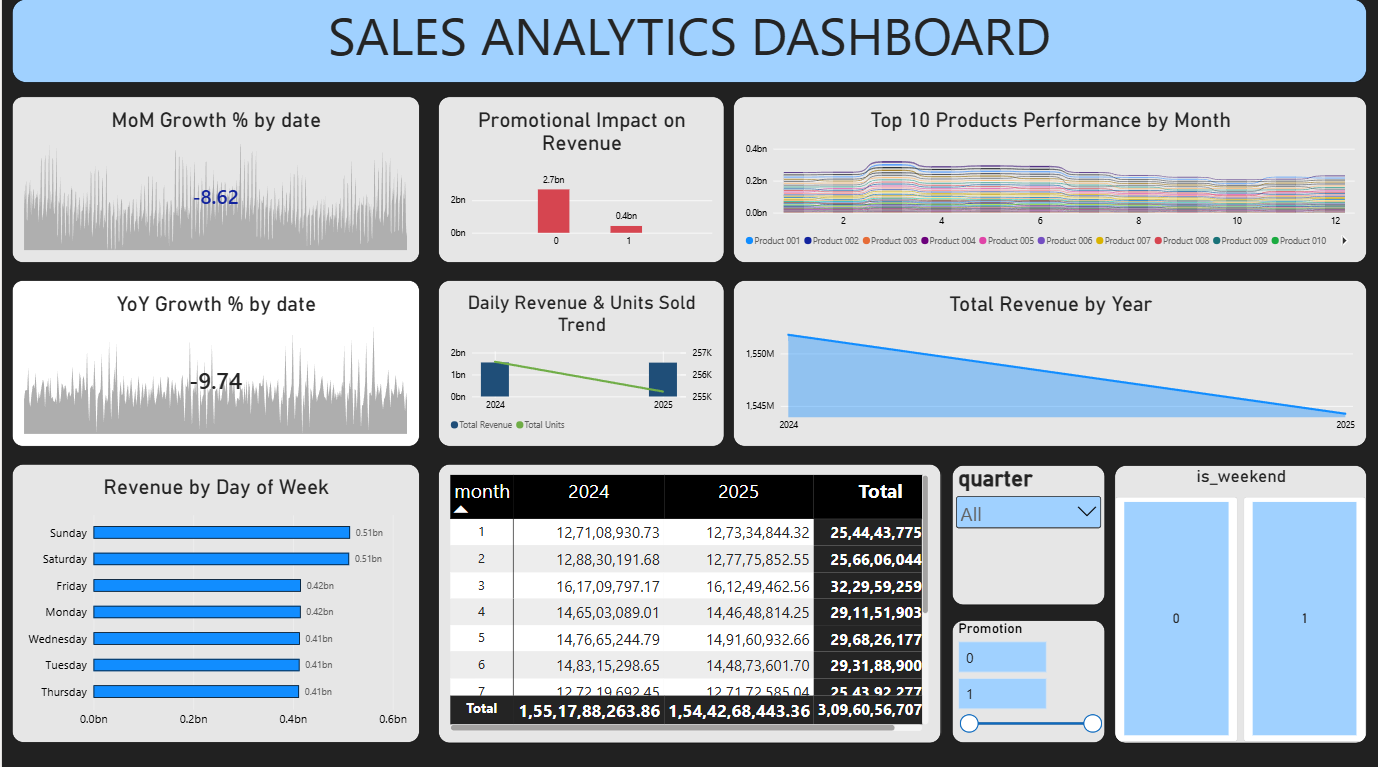

What the dashboard file says about the page in this screenshot:
{"tool":"powerbi","page":{"name":"Page 2","canvas":[1920,1080],"ordinal":1},"visuals":[{"type":"textbox","box":[14,0,1890.7,116.9],"z":0},{"type":"kpi","fields":{"Indicator":["_Measures.MoM Growth %"],"TrendLine":["calendar (2).date"]},"box":[14,136,568.6,232],"z":1},{"type":"kpi","fields":{"Indicator":["_Measures.YoY Growth %"],"TrendLine":["calendar (2).date"]},"box":[14,392.4,568.6,232],"z":2},{"type":"barChart","title":"Revenue by Day of Week","fields":{"Category":["calendar (2).day_of_week"],"Y":["_Measures.Total Revenue"]},"box":[14,648.8,568.6,389],"z":3},{"type":"clusteredColumnChart","title":"Promotional Impact on Revenue","fields":{"Category":["sales_daily (2).Promotion"],"Y":["_Measures.Total Revenue"]},"box":[608.7,136,399.4,232],"z":4},{"type":"lineStackedColumnComboChart","title":"Daily Revenue & Units Sold Trend","fields":{"Category":["calendar (2).date.Variation.Date Hierarchy.Year","calendar (2).date.Variation.Date Hierarchy.Quarter","calendar (2).date.Variation.Date Hierarchy.Month","calendar (2).date.Variation.Date Hierarchy.Day"],"Y":["_Measures.Total Revenue"],"Y2":["_Measures.Total Units"]},"box":[609,392,399,232],"z":5},{"type":"pivotTable","fields":{"Columns":["calendar (2).year"],"Rows":["calendar (2).month"],"Values":["_Measures.Total Revenue"]},"box":[609.5,648.5,701.5,389.7],"z":6},{"type":"ribbonChart","title":"Top 10 Products Performance by Month","fields":{"Category":["calendar (2).month"],"Series":["sku_master (2).Product_Name"],"Y":["_Measures.Total Revenue"]},"box":[1020.4,136,884.3,232],"z":7},{"type":"areaChart","fields":{"Category":["calendar (2).date.Variation.Date Hierarchy.Year","calendar (2).date.Variation.Date Hierarchy.Quarter","calendar (2).date.Variation.Date Hierarchy.Month","calendar (2).date.Variation.Date Hierarchy.Day"],"Y":["_Measures.Total Revenue"]},"box":[1020.4,392.4,884.3,232],"z":8},{"type":"slicer","fields":{"Values":["calendar (2).quarter"]},"box":[1325.1,650.1,213.6,194.9],"z":9},{"type":"advancedSlicerVisual","fields":{"Values":["calendar (2).is_weekend"]},"box":[1552.7,650.1,352.3,388.2],"z":10},{"type":"slicer","fields":{"Values":["sales_daily (2).Promotion"]},"box":[1325.1,866.7,213.6,171.5],"z":11}]}

Visuals, with their boxes in screenshot pixels (x1, y1, x2, y2), scaled from the page's 1920x1080 canvas onto the 1378x767 screenshot:
textbox: rect(10, 0, 1367, 83)
kpi - _Measures.MoM Growth % x calendar (2).date: rect(10, 97, 418, 261)
kpi - _Measures.YoY Growth % x calendar (2).date: rect(10, 279, 418, 443)
"Revenue by Day of Week" barChart: rect(10, 461, 418, 737)
"Promotional Impact on Revenue" clusteredColumnChart: rect(437, 97, 724, 261)
"Daily Revenue & Units Sold Trend" lineStackedColumnComboChart: rect(437, 278, 723, 443)
pivotTable - calendar (2).year x calendar (2).month: rect(437, 461, 941, 737)
"Top 10 Products Performance by Month" ribbonChart: rect(732, 97, 1367, 261)
areaChart - calendar (2).date.Variation.Date Hierarchy.Year x calendar (2).date.Variation.Date Hierarchy.Quarter: rect(732, 279, 1367, 443)
slicer - calendar (2).quarter: rect(951, 462, 1104, 600)
advancedSlicerVisual - calendar (2).is_weekend: rect(1114, 462, 1367, 737)
slicer - sales_daily (2).Promotion: rect(951, 616, 1104, 737)
